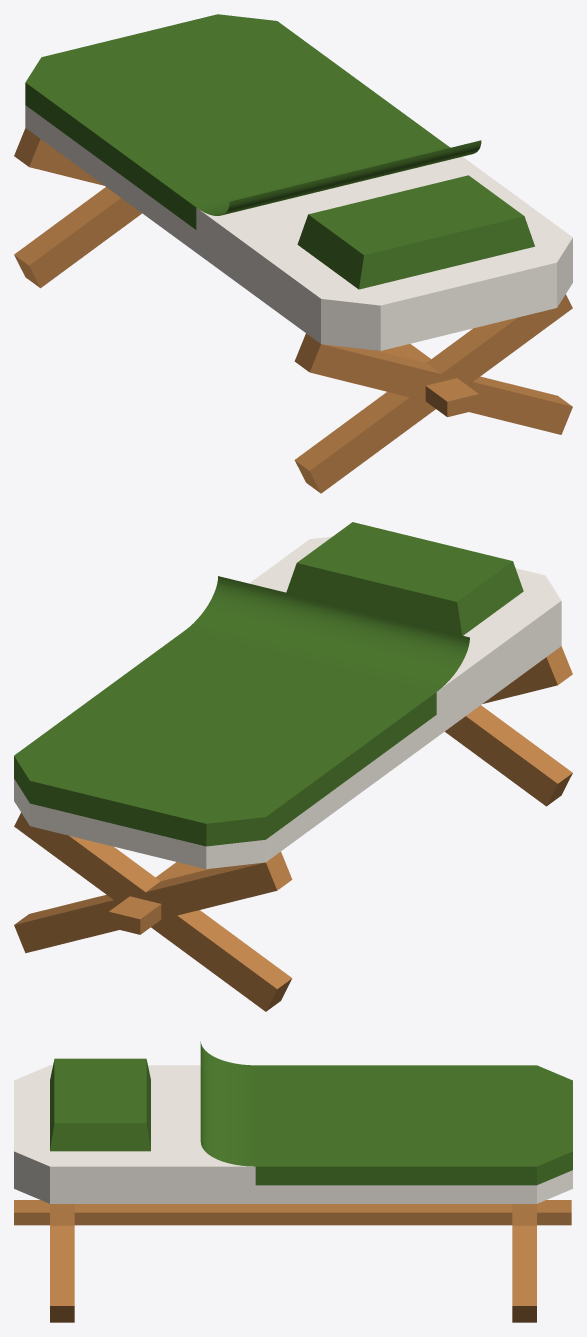
The model's file is bed.glb.
3 renders of one model, top to bottom at view 1: azimuth 30°, elevation 25°; view 2: azimuth 150°, elevation 25°; view 3: azimuth 270°, elevation 25°, orthographic. The views are drawn at different scales.
Parts seen in each view (by area): view 1: bed; view 2: bed; view 3: bed.
Part boxes in pixels (x1,y1,x2,y2): bed: [14, 14, 572, 493]; bed: [14, 522, 572, 1011]; bed: [14, 1041, 572, 1322].
Size of the model in its own units: 0.3349 by 0.2737 by 0.7473.
